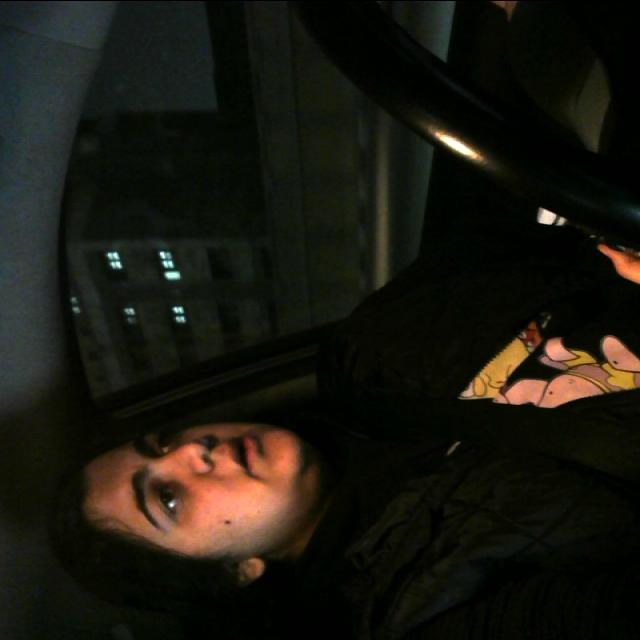drinking: (515, 186, 640, 254)
